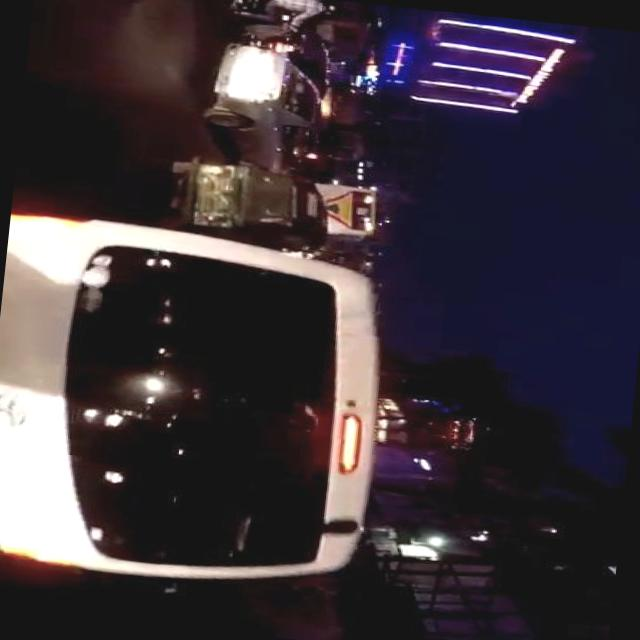bus: (312, 182, 384, 249)
car: (203, 44, 332, 182), (243, 29, 334, 91)
motorcycle: (168, 158, 338, 256), (221, 0, 309, 44)
truck: (0, 199, 405, 606)
